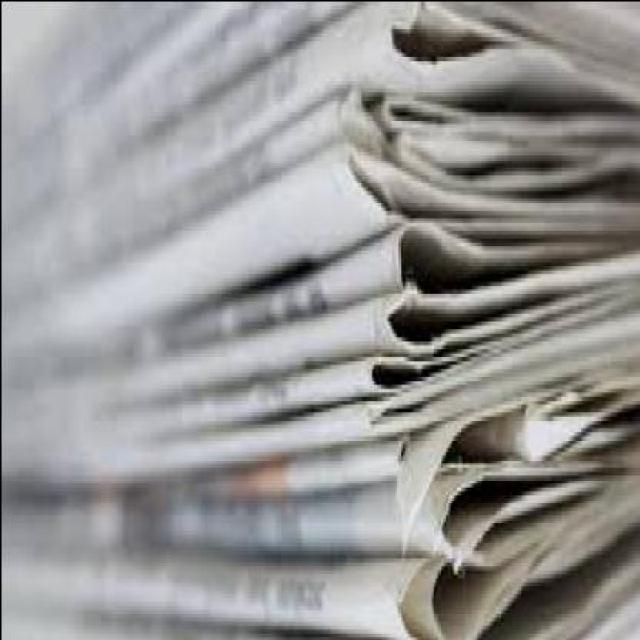PAPER: (1, 1, 640, 638), (0, 320, 638, 474), (1, 4, 638, 147), (0, 418, 638, 554), (0, 225, 638, 360), (1, 102, 638, 233), (0, 536, 638, 638)
